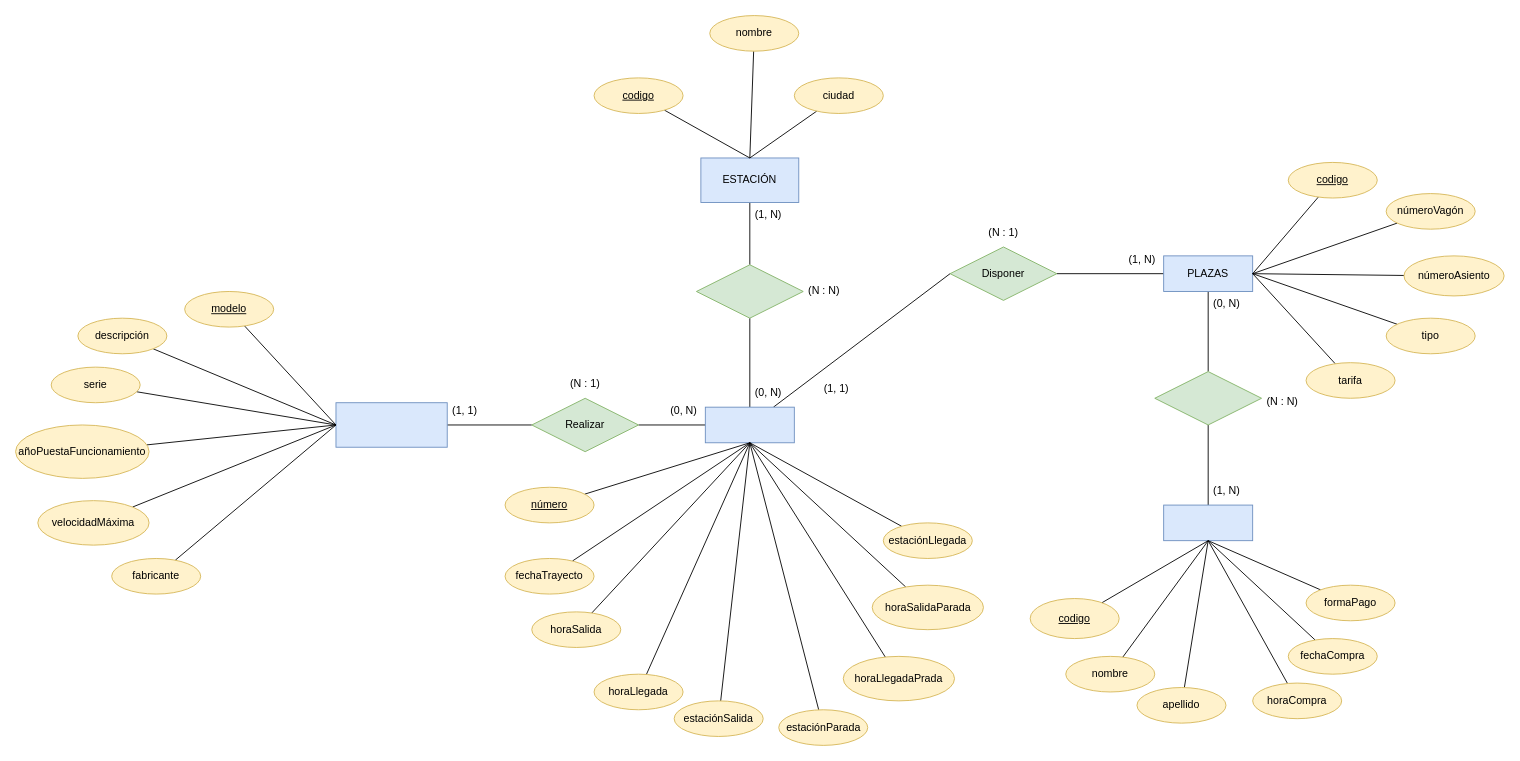
Some shapes in this 1520 by 761 pixel diagram are drawn without their labels. Each missing label, with the box of its shape:
CLIENTES: (1163, 504, 1253, 541)
Comprar: (1154, 371, 1262, 425)
LOCOMOTORAS: (335, 402, 447, 447)
Parar: (696, 264, 803, 318)
TRAYECTOS: (704, 406, 794, 443)
